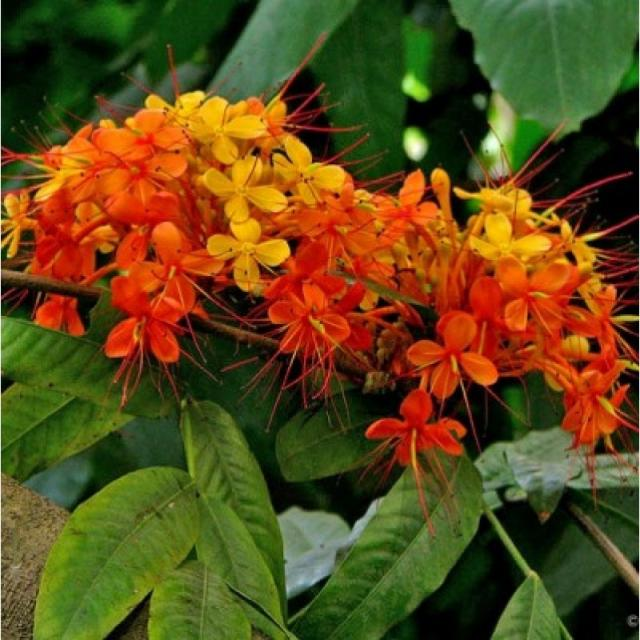Ashoka: (222, 54, 586, 434), (24, 83, 335, 324)
